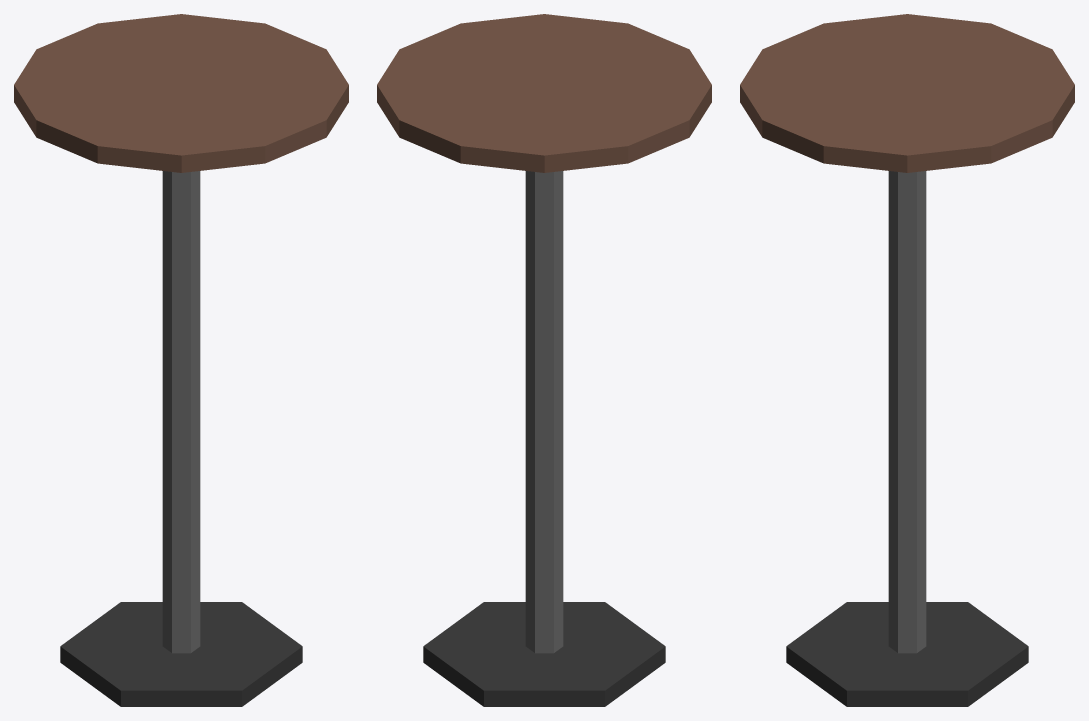
File: SM_Props_BarProps_03.fbx
The picture shows the model from 3 angles, left to right: view 1: azimuth 30°, elevation 25°; view 2: azimuth 150°, elevation 25°; view 3: azimuth 270°, elevation 25°; orthographic projection.
Visible parts, largest first — view 1: SM_Props_BarProps_03; view 2: SM_Props_BarProps_03; view 3: SM_Props_BarProps_03.
Boxes of the visible parts, left/top/right/bottom form: SM_Props_BarProps_03: left=14, top=14, right=348, bottom=706; SM_Props_BarProps_03: left=377, top=14, right=711, bottom=706; SM_Props_BarProps_03: left=740, top=14, right=1074, bottom=706.
Size of the model in its own units: 0.6876 by 1.31 by 0.6876.
